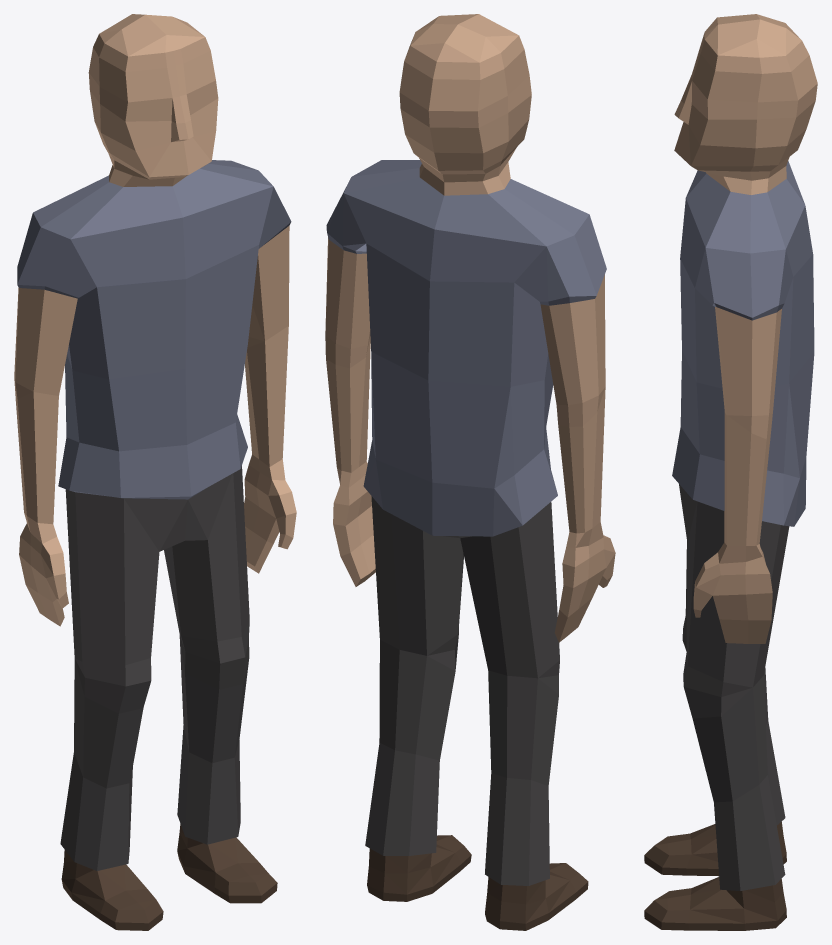
File: Male_Standing.obj
3 renders of one model, left to right at view 1: azimuth 30°, elevation 25°; view 2: azimuth 150°, elevation 25°; view 3: azimuth 270°, elevation 25°, orthographic. The views are drawn at different scales.
Parts seen in each view (by area): view 1: Male_Standing_Human_CylinderMesh.006; view 2: Male_Standing_Human_CylinderMesh.006; view 3: Male_Standing_Human_CylinderMesh.006.
Boxes of the visible parts, x1=… form: Male_Standing_Human_CylinderMesh.006: x1=14, y1=14, x2=296, y2=930; Male_Standing_Human_CylinderMesh.006: x1=325, y1=14, x2=615, y2=930; Male_Standing_Human_CylinderMesh.006: x1=644, y1=14, x2=817, y2=930.
Bounding box in the file's own units: 1.24 × 3.83 × 0.6923.
